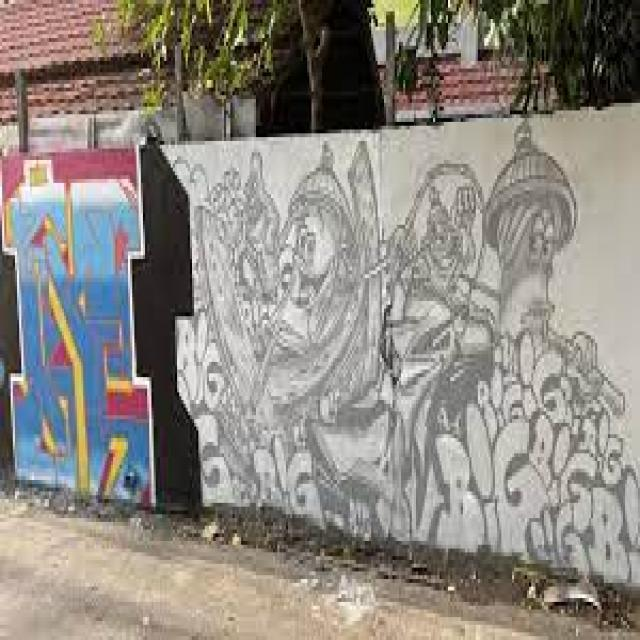-: (172, 127, 640, 589), (1, 149, 155, 512)
